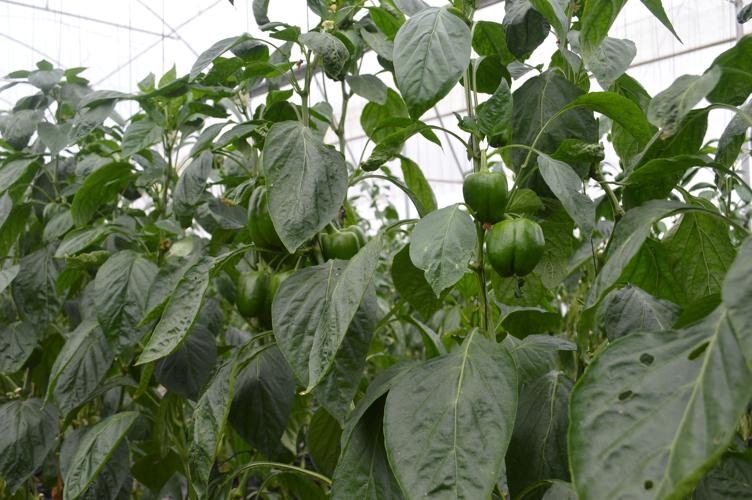BellPepper: (482, 217, 549, 285), (241, 178, 293, 253), (315, 209, 367, 266), (462, 167, 509, 223), (237, 267, 269, 317)
